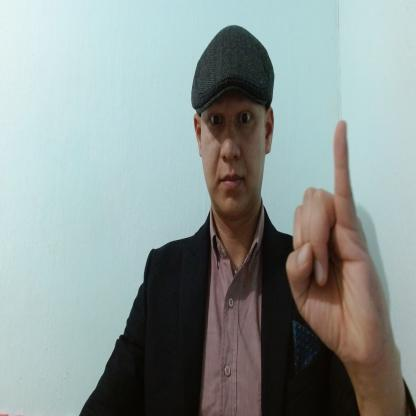I: (285, 118, 390, 368)
